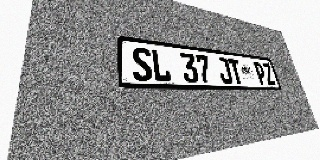3: (180, 52, 199, 83)
7: (194, 54, 213, 83)
J: (216, 57, 234, 84)
L: (151, 49, 172, 82)
P: (253, 62, 268, 85)
S: (131, 46, 153, 82)
T: (227, 58, 244, 84)
Z: (261, 63, 276, 85)
